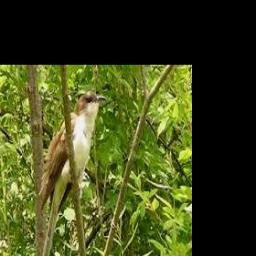Cuckoo: (38, 93, 107, 210)
